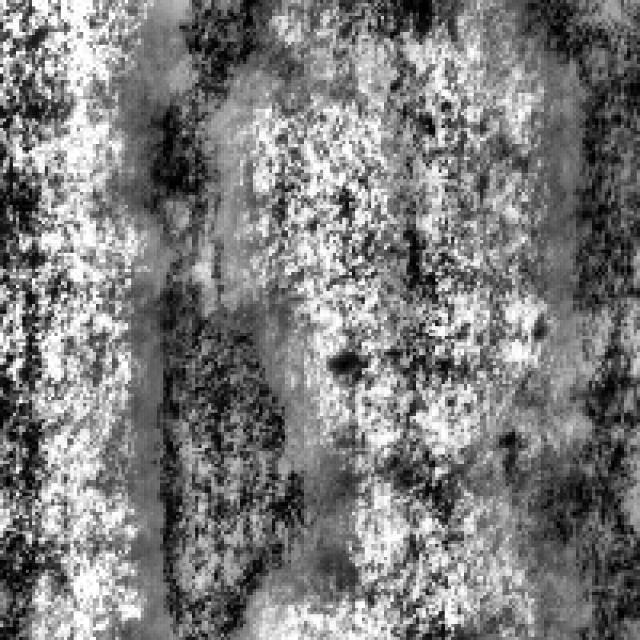Scratches: (512, 0, 637, 634), (134, 278, 326, 634), (124, 0, 278, 240)
